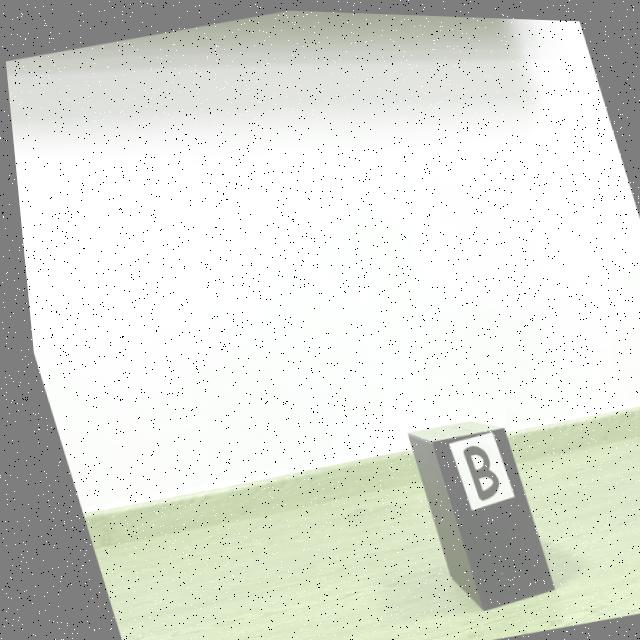B: (454, 441, 490, 497)
